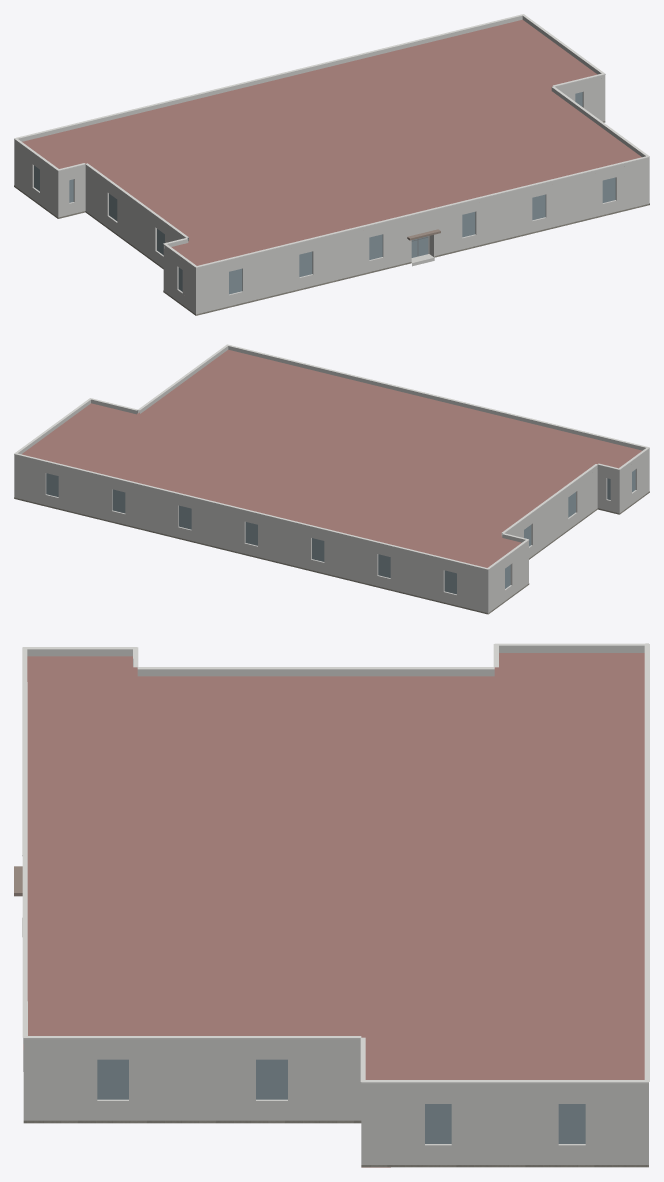
The picture shows the model from 3 angles, top to bottom: view 1: azimuth 30°, elevation 25°; view 2: azimuth 150°, elevation 25°; view 3: azimuth 270°, elevation 25°; orthographic projection. The views are drawn at different scales.
Parts seen in each view (by area): view 1: osm639992763__roof, osm639992763__wall, osm639992763__parapet, osm639992763__trim, osm639992763__glass, osm639992763__base; view 2: osm639992763__roof, osm639992763__wall, osm639992763__parapet, osm639992763__trim, osm639992763__glass, osm639992763__base; view 3: osm639992763__roof, osm639992763__wall, osm639992763__trim, osm639992763__parapet, osm639992763__glass, osm639992763__base.
Part boxes in pixels (x1=…): osm639992763__roof: x1=22, y1=19, x2=641, y2=265; osm639992763__wall: x1=14, y1=78, x2=649, y2=315; osm639992763__parapet: x1=14, y1=15, x2=649, y2=271; osm639992763__trim: x1=14, y1=14, x2=649, y2=268; osm639992763__glass: x1=34, y1=92, x2=615, y2=294; osm639992763__base: x1=14, y1=121, x2=649, y2=315; osm639992763__roof: x1=22, y1=349, x2=641, y2=567; osm639992763__wall: x1=14, y1=451, x2=649, y2=614; osm639992763__parapet: x1=14, y1=346, x2=649, y2=572; osm639992763__trim: x1=14, y1=344, x2=649, y2=569; osm639992763__glass: x1=46, y1=469, x2=635, y2=594; osm639992763__base: x1=14, y1=491, x2=649, y2=614; osm639992763__roof: x1=23, y1=653, x2=644, y2=1167; osm639992763__wall: x1=23, y1=1038, x2=648, y2=1164; osm639992763__trim: x1=22, y1=643, x2=649, y2=1083; osm639992763__parapet: x1=23, y1=645, x2=648, y2=1088; osm639992763__glass: x1=97, y1=1059, x2=585, y2=1143; osm639992763__base: x1=23, y1=1120, x2=648, y2=1167.
Size of the model in its own units: 72.21 by 6.95 by 44.24.
10 materials, 1 textured.
